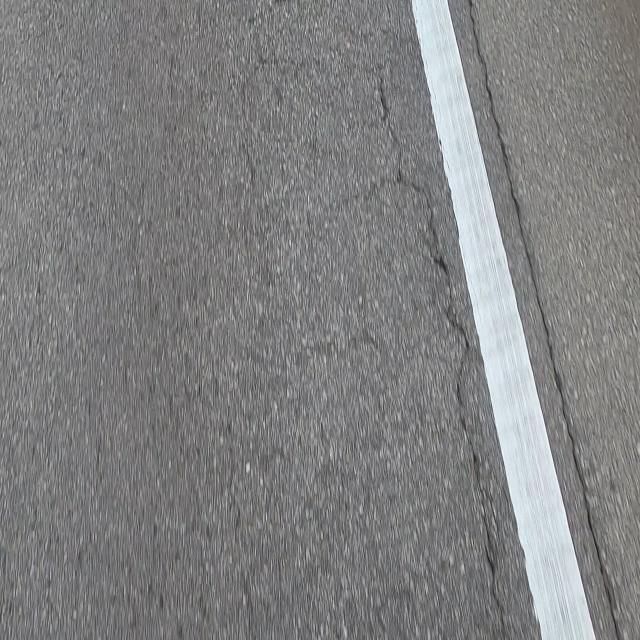Retak-Memanjang: (465, 0, 624, 640), (377, 79, 506, 637)
